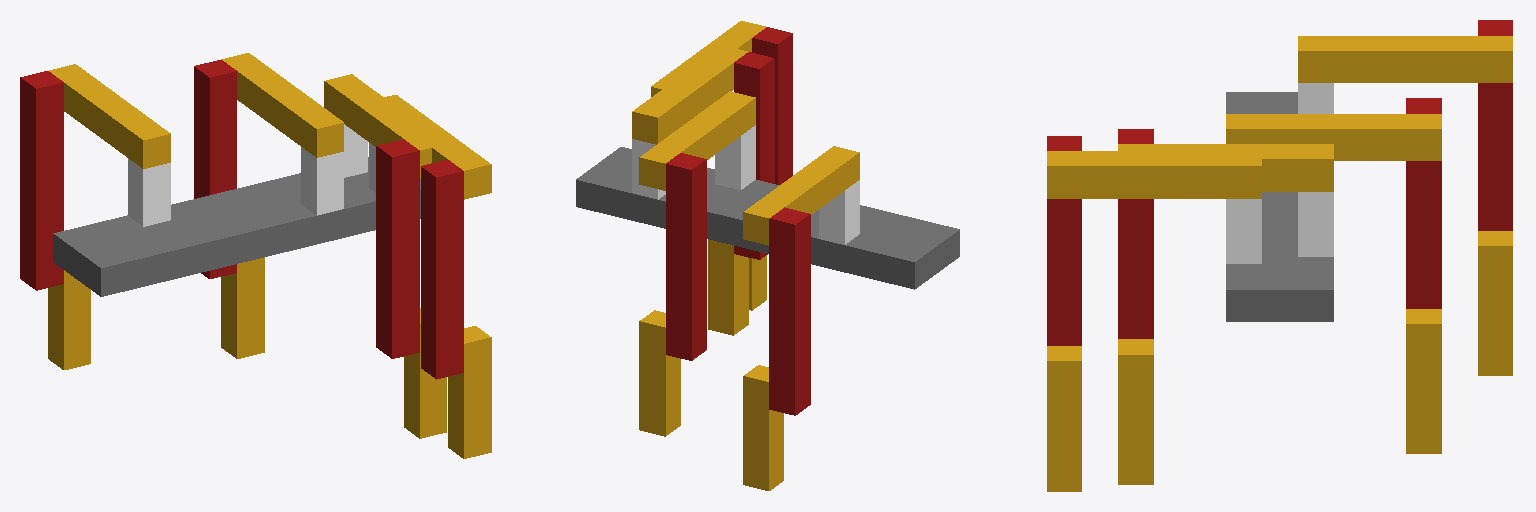
robot.urdf — v0:
<?xml version="1.0" encoding="utf-8"?>
<!-- =================================================================================== -->
<!-- |    This document was autogenerated by xacro from ../robots/v0variants/xacros/v0_4l_12.xacro | -->
<!-- |    EDITING THIS FILE BY HAND IS NOT RECOMMENDED                                 | -->
<!-- =================================================================================== -->
<robot name="v0">
  <material name="grey">
    <color rgba="0.5 0.5 0.5 1"/>
  </material>
  <material name="white">
    <color rgba="1 1 1 1"/>
  </material>
  <material name="yellow">
    <color rgba="0.91 0.7 0.14 1"/>
  </material>
  <material name="red">
    <color rgba="0.71 0.14 0.14 1"/>
  </material>
  <link name="body">
    <visual>
      <geometry>
        <box size="1.3 0.3 0.1"/>
      </geometry>
      <material name="grey"/>
      <origin rpy="0 0 0" xyz="0 0 0.7"/>
    </visual>
    <collision>
      <geometry>
        <box size="1.3 0.3 0.1"/>
      </geometry>
      <origin rpy="0 0 0" xyz="0 0 0.7"/>
    </collision>
    <inertial>
      <mass value="99.84"/>
      <inertia ixx="0.832" ixy="0.0" ixz="0.0" iyy="14.144" iyz="0.0" izz="14.8096"/>
    </inertial>
  </link>
  <link name="l1_segment_1">
    <visual>
      <geometry>
        <box size="0.1 0.1 0.2"/>
      </geometry>
      <material name="white"/>
      <origin rpy="0 0 0" xyz="0 0 0.1"/>
    </visual>
    <collision>
      <geometry>
        <box size="0.1 0.1 0.2"/>
      </geometry>
      <origin rpy="0 0 0" xyz="0 0 0.1"/>
    </collision>
    <inertial>
      <mass value="5.12"/>
      <inertia ixx="0.0213333333333" ixy="0.0" ixz="0.0" iyy="0.0213333333333" iyz="0.0" izz="0.00853333333333"/>
    </inertial>
  </link>
  <joint name="l1_base_to_joint_1" type="fixed">
    <parent link="body"/>
    <child link="l1_segment_1"/>
    <origin rpy="0 0 0" xyz="0.18285700972437235 -0.1 0.75"/>
  </joint>
  <link name="l1_segment_2_HIP">
    <visual>
      <geometry>
        <box size="0.1 0.6 0.1"/>
      </geometry>
      <material name="yellow"/>
      <origin rpy="0 0 0" xyz="0 0.25 0"/>
    </visual>
    <collision>
      <geometry>
        <box size="0.1 0.6 0.1"/>
      </geometry>
      <origin rpy="0 0 0" xyz="0 0.25 0"/>
    </collision>
    <inertial>
      <mass value="15.36"/>
      <inertia ixx="0.4736" ixy="0.0" ixz="0.0" iyy="0.0256" iyz="0.0" izz="0.4736"/>
    </inertial>
  </link>
  <joint name="l1_joint_1_to_2" type="revolute">
    <parent link="l1_segment_1"/>
    <child link="l1_segment_2_HIP"/>
    <origin rpy="0 0 0" xyz="0 0 0.25"/>
    <axis xyz="0.0 0.0 1.0"/>
    <limit effort="2048" lower="-1.2" upper="1.2" velocity="20"/>
  </joint>
  <link name="l1_segment_3_THIGH">
    <visual>
      <geometry>
        <box size="0.1 0.1 0.7"/>
      </geometry>
      <material name="red"/>
      <origin rpy="0 0 0" xyz="0 0 -0.3"/>
    </visual>
    <collision>
      <geometry>
        <box size="0.1 0.1 0.7"/>
      </geometry>
      <origin rpy="0 0 0" xyz="0 0 -0.3"/>
    </collision>
    <inertial>
      <mass value="17.92"/>
      <inertia ixx="0.746666666667" ixy="0.0" ixz="0.0" iyy="0.746666666667" iyz="0.0" izz="0.0298666666667"/>
    </inertial>
  </link>
  <joint name="l1_joint_2_to_3" type="revolute">
    <parent link="l1_segment_2_HIP"/>
    <child link="l1_segment_3_THIGH"/>
    <origin rpy="0 0 0" xyz="-0.1 0.5 0"/>
    <axis xyz="1.0 0.0 0.0"/>
    <limit effort="2048" lower="-0.2" upper="0.75" velocity="20"/>
  </joint>
  <link name="l1_segment_4_FOOT">
    <visual>
      <geometry>
        <box size="0.1 0.1 0.4"/>
      </geometry>
      <material name="yellow"/>
      <origin rpy="0 0 0" xyz="0 0 -0.2"/>
    </visual>
    <collision>
      <geometry>
        <box size="0.1 0.1 0.4"/>
      </geometry>
      <origin rpy="0 0 0" xyz="0 0 -0.2"/>
    </collision>
    <inertial>
      <mass value="10.24"/>
      <inertia ixx="0.145066666667" ixy="0.0" ixz="0.0" iyy="0.145066666667" iyz="0.0" izz="0.0170666666667"/>
    </inertial>
  </link>
  <joint name="l1_joint_3_to_4_FOOT" type="revolute">
    <parent link="l1_segment_3_THIGH"/>
    <child link="l1_segment_4_FOOT"/>
    <origin rpy="0 0 0" xyz="0.1 0 -0.55"/>
    <axis xyz="1.0 0.0 0.0"/>
    <limit effort="2048" lower="-0.2" upper="0.5" velocity="20"/>
  </joint>
  <link name="r2_segment_1">
    <visual>
      <geometry>
        <box size="0.1 0.1 0.2"/>
      </geometry>
      <material name="white"/>
      <origin rpy="0 0 0" xyz="0 0 0.1"/>
    </visual>
    <collision>
      <geometry>
        <box size="0.1 0.1 0.2"/>
      </geometry>
      <origin rpy="0 0 0" xyz="0 0 0.1"/>
    </collision>
    <inertial>
      <mass value="5.12"/>
      <inertia ixx="0.0213333333333" ixy="0.0" ixz="0.0" iyy="0.0213333333333" iyz="0.0" izz="0.00853333333333"/>
    </inertial>
  </link>
  <joint name="r2_base_to_joint_1" type="fixed">
    <parent link="body"/>
    <child link="r2_segment_1"/>
    <origin rpy="0 0 0" xyz="0.4283080100460962 -0.1 0.75"/>
  </joint>
  <link name="r2_segment_2_HIP">
    <visual>
      <geometry>
        <box size="0.1 0.6 0.1"/>
      </geometry>
      <material name="yellow"/>
      <origin rpy="0 0 0" xyz="0 -0.25 0"/>
    </visual>
    <collision>
      <geometry>
        <box size="0.1 0.6 0.1"/>
      </geometry>
      <origin rpy="0 0 0" xyz="0 -0.25 0"/>
    </collision>
    <inertial>
      <mass value="15.36"/>
      <inertia ixx="0.4736" ixy="0.0" ixz="0.0" iyy="0.0256" iyz="0.0" izz="0.4736"/>
    </inertial>
  </link>
  <joint name="r2_joint_1_to_2" type="revolute">
    <parent link="r2_segment_1"/>
    <child link="r2_segment_2_HIP"/>
    <origin rpy="0 0 0" xyz="0 0 0.25"/>
    <axis xyz="0.0 0.0 1.0"/>
    <limit effort="2048" lower="-1.2" upper="1.2" velocity="20"/>
  </joint>
  <link name="r2_segment_3_THIGH">
    <visual>
      <geometry>
        <box size="0.1 0.1 0.7"/>
      </geometry>
      <material name="red"/>
      <origin rpy="0 0 0" xyz="0 0 -0.3"/>
    </visual>
    <collision>
      <geometry>
        <box size="0.1 0.1 0.7"/>
      </geometry>
      <origin rpy="0 0 0" xyz="0 0 -0.3"/>
    </collision>
    <inertial>
      <mass value="17.92"/>
      <inertia ixx="0.746666666667" ixy="0.0" ixz="0.0" iyy="0.746666666667" iyz="0.0" izz="0.0298666666667"/>
    </inertial>
  </link>
  <joint name="r2_joint_2_to_3" type="revolute">
    <parent link="r2_segment_2_HIP"/>
    <child link="r2_segment_3_THIGH"/>
    <origin rpy="0 0 0" xyz="-0.1 -0.5 0"/>
    <axis xyz="1.0 0.0 0.0"/>
    <limit effort="2048" lower="-0.75" upper="0.2" velocity="20"/>
  </joint>
  <link name="r2_segment_4_FOOT">
    <visual>
      <geometry>
        <box size="0.1 0.1 0.4"/>
      </geometry>
      <material name="yellow"/>
      <origin rpy="0 0 0" xyz="0 0 -0.2"/>
    </visual>
    <collision>
      <geometry>
        <box size="0.1 0.1 0.4"/>
      </geometry>
      <origin rpy="0 0 0" xyz="0 0 -0.2"/>
    </collision>
    <inertial>
      <mass value="10.24"/>
      <inertia ixx="0.145066666667" ixy="0.0" ixz="0.0" iyy="0.145066666667" iyz="0.0" izz="0.0170666666667"/>
    </inertial>
  </link>
  <joint name="r2_joint_3_to_4_FOOT" type="revolute">
    <parent link="r2_segment_3_THIGH"/>
    <child link="r2_segment_4_FOOT"/>
    <origin rpy="0 0 0" xyz="0.1 0 -0.55"/>
    <axis xyz="1.0 0.0 0.0"/>
    <limit effort="2048" lower="-0.5" upper="0.2" velocity="20"/>
  </joint>
  <link name="l3_segment_1">
    <visual>
      <geometry>
        <box size="0.1 0.1 0.2"/>
      </geometry>
      <material name="white"/>
      <origin rpy="0 0 0" xyz="0 0 0.1"/>
    </visual>
    <collision>
      <geometry>
        <box size="0.1 0.1 0.2"/>
      </geometry>
      <origin rpy="0 0 0" xyz="0 0 0.1"/>
    </collision>
    <inertial>
      <mass value="5.12"/>
      <inertia ixx="0.0213333333333" ixy="0.0" ixz="0.0" iyy="0.0213333333333" iyz="0.0" izz="0.00853333333333"/>
    </inertial>
  </link>
  <joint name="l3_base_to_joint_1" type="fixed">
    <parent link="body"/>
    <child link="l3_segment_1"/>
    <origin rpy="0 0 0" xyz="-0.33064813854895575 0.1 0.75"/>
  </joint>
  <link name="l3_segment_2_HIP">
    <visual>
      <geometry>
        <box size="0.1 0.6 0.1"/>
      </geometry>
      <material name="yellow"/>
      <origin rpy="0 0 0" xyz="0 0.25 0"/>
    </visual>
    <collision>
      <geometry>
        <box size="0.1 0.6 0.1"/>
      </geometry>
      <origin rpy="0 0 0" xyz="0 0.25 0"/>
    </collision>
    <inertial>
      <mass value="15.36"/>
      <inertia ixx="0.4736" ixy="0.0" ixz="0.0" iyy="0.0256" iyz="0.0" izz="0.4736"/>
    </inertial>
  </link>
  <joint name="l3_joint_1_to_2" type="revolute">
    <parent link="l3_segment_1"/>
    <child link="l3_segment_2_HIP"/>
    <origin rpy="0 0 0" xyz="0 0 0.25"/>
    <axis xyz="0.0 0.0 1.0"/>
    <limit effort="2048" lower="-1.2" upper="1.2" velocity="20"/>
  </joint>
  <link name="l3_segment_3_THIGH">
    <visual>
      <geometry>
        <box size="0.1 0.1 0.7"/>
      </geometry>
      <material name="red"/>
      <origin rpy="0 0 0" xyz="0 0 -0.3"/>
    </visual>
    <collision>
      <geometry>
        <box size="0.1 0.1 0.7"/>
      </geometry>
      <origin rpy="0 0 0" xyz="0 0 -0.3"/>
    </collision>
    <inertial>
      <mass value="17.92"/>
      <inertia ixx="0.746666666667" ixy="0.0" ixz="0.0" iyy="0.746666666667" iyz="0.0" izz="0.0298666666667"/>
    </inertial>
  </link>
  <joint name="l3_joint_2_to_3" type="revolute">
    <parent link="l3_segment_2_HIP"/>
    <child link="l3_segment_3_THIGH"/>
    <origin rpy="0 0 0" xyz="-0.1 0.5 0"/>
    <axis xyz="1.0 0.0 0.0"/>
    <limit effort="2048" lower="-0.2" upper="0.75" velocity="20"/>
  </joint>
  <link name="l3_segment_4_FOOT">
    <visual>
      <geometry>
        <box size="0.1 0.1 0.4"/>
      </geometry>
      <material name="yellow"/>
      <origin rpy="0 0 0" xyz="0 0 -0.2"/>
    </visual>
    <collision>
      <geometry>
        <box size="0.1 0.1 0.4"/>
      </geometry>
      <origin rpy="0 0 0" xyz="0 0 -0.2"/>
    </collision>
    <inertial>
      <mass value="10.24"/>
      <inertia ixx="0.145066666667" ixy="0.0" ixz="0.0" iyy="0.145066666667" iyz="0.0" izz="0.0170666666667"/>
    </inertial>
  </link>
  <joint name="l3_joint_3_to_4_FOOT" type="revolute">
    <parent link="l3_segment_3_THIGH"/>
    <child link="l3_segment_4_FOOT"/>
    <origin rpy="0 0 0" xyz="0.1 0 -0.55"/>
    <axis xyz="1.0 0.0 0.0"/>
    <limit effort="2048" lower="-0.2" upper="0.5" velocity="20"/>
  </joint>
  <link name="r4_segment_1">
    <visual>
      <geometry>
        <box size="0.1 0.1 0.2"/>
      </geometry>
      <material name="white"/>
      <origin rpy="0 0 0" xyz="0 0 0.1"/>
    </visual>
    <collision>
      <geometry>
        <box size="0.1 0.1 0.2"/>
      </geometry>
      <origin rpy="0 0 0" xyz="0 0 0.1"/>
    </collision>
    <inertial>
      <mass value="5.12"/>
      <inertia ixx="0.0213333333333" ixy="0.0" ixz="0.0" iyy="0.0213333333333" iyz="0.0" izz="0.00853333333333"/>
    </inertial>
  </link>
  <joint name="r4_base_to_joint_1" type="fixed">
    <parent link="body"/>
    <child link="r4_segment_1"/>
    <origin rpy="0 0 0" xyz="0.3838313226723461 0.1 0.75"/>
  </joint>
  <link name="r4_segment_2_HIP">
    <visual>
      <geometry>
        <box size="0.1 0.6 0.1"/>
      </geometry>
      <material name="yellow"/>
      <origin rpy="0 0 0" xyz="0 -0.25 0"/>
    </visual>
    <collision>
      <geometry>
        <box size="0.1 0.6 0.1"/>
      </geometry>
      <origin rpy="0 0 0" xyz="0 -0.25 0"/>
    </collision>
    <inertial>
      <mass value="15.36"/>
      <inertia ixx="0.4736" ixy="0.0" ixz="0.0" iyy="0.0256" iyz="0.0" izz="0.4736"/>
    </inertial>
  </link>
  <joint name="r4_joint_1_to_2" type="revolute">
    <parent link="r4_segment_1"/>
    <child link="r4_segment_2_HIP"/>
    <origin rpy="0 0 0" xyz="0 0 0.25"/>
    <axis xyz="0.0 0.0 1.0"/>
    <limit effort="2048" lower="-1.2" upper="1.2" velocity="20"/>
  </joint>
  <link name="r4_segment_3_THIGH">
    <visual>
      <geometry>
        <box size="0.1 0.1 0.7"/>
      </geometry>
      <material name="red"/>
      <origin rpy="0 0 0" xyz="0 0 -0.3"/>
    </visual>
    <collision>
      <geometry>
        <box size="0.1 0.1 0.7"/>
      </geometry>
      <origin rpy="0 0 0" xyz="0 0 -0.3"/>
    </collision>
    <inertial>
      <mass value="17.92"/>
      <inertia ixx="0.746666666667" ixy="0.0" ixz="0.0" iyy="0.746666666667" iyz="0.0" izz="0.0298666666667"/>
    </inertial>
  </link>
  <joint name="r4_joint_2_to_3" type="revolute">
    <parent link="r4_segment_2_HIP"/>
    <child link="r4_segment_3_THIGH"/>
    <origin rpy="0 0 0" xyz="-0.1 -0.5 0"/>
    <axis xyz="1.0 0.0 0.0"/>
    <limit effort="2048" lower="-0.75" upper="0.2" velocity="20"/>
  </joint>
  <link name="r4_segment_4_FOOT">
    <visual>
      <geometry>
        <box size="0.1 0.1 0.4"/>
      </geometry>
      <material name="yellow"/>
      <origin rpy="0 0 0" xyz="0 0 -0.2"/>
    </visual>
    <collision>
      <geometry>
        <box size="0.1 0.1 0.4"/>
      </geometry>
      <origin rpy="0 0 0" xyz="0 0 -0.2"/>
    </collision>
    <inertial>
      <mass value="10.24"/>
      <inertia ixx="0.145066666667" ixy="0.0" ixz="0.0" iyy="0.145066666667" iyz="0.0" izz="0.0170666666667"/>
    </inertial>
  </link>
  <joint name="r4_joint_3_to_4_FOOT" type="revolute">
    <parent link="r4_segment_3_THIGH"/>
    <child link="r4_segment_4_FOOT"/>
    <origin rpy="0 0 0" xyz="0.1 0 -0.55"/>
    <axis xyz="1.0 0.0 0.0"/>
    <limit effort="2048" lower="-0.5" upper="0.2" velocity="20"/>
  </joint>
</robot>

--- Facts derived from the render (not from the file) ---
3 views of the same robot in one strip: view 1: azimuth 30°, elevation 25°; view 2: azimuth 150°, elevation 25°; view 3: azimuth 270°, elevation 25° (orthographic).
Robot: v0 — 17 links, 16 joints (12 revolute, 4 fixed); root link body; default pose: every joint at zero.
Links seen in each view (by area): view 1: body, r4_segment_3_THIGH, r2_segment_3_THIGH, l3_segment_3_THIGH, l1_segment_3_THIGH, l1_segment_2_HIP, l3_segment_2_HIP, r2_segment_4_FOOT, r4_segment_2_HIP, l1_segment_4_FOOT, l3_segment_4_FOOT, r4_segment_4_FOOT (+4 smaller); view 2: body, l3_segment_3_THIGH, l1_segment_3_THIGH, r4_segment_2_HIP, l1_segment_2_HIP, l3_segment_2_HIP, l1_segment_4_FOOT, l3_segment_4_FOOT, r4_segment_3_THIGH, r4_segment_4_FOOT, r2_segment_3_THIGH, l3_segment_1 (+4 smaller); view 3: body, r2_segment_2_HIP, l3_segment_2_HIP, l1_segment_2_HIP, l1_segment_3_THIGH, l3_segment_3_THIGH, r2_segment_3_THIGH, r4_segment_3_THIGH, r4_segment_4_FOOT, l1_segment_4_FOOT, r2_segment_4_FOOT, l3_segment_4_FOOT (+4 smaller).
Boxes of the visible links, x1=… form: body: x1=53, y1=157, x2=420, y2=296; r4_segment_3_THIGH: x1=376, y1=139, x2=419, y2=358; r2_segment_3_THIGH: x1=421, y1=159, x2=463, y2=379; l3_segment_3_THIGH: x1=20, y1=71, x2=63, y2=290; l1_segment_3_THIGH: x1=194, y1=60, x2=236, y2=278; l1_segment_2_HIP: x1=221, y1=53, x2=343, y2=157; l3_segment_2_HIP: x1=49, y1=64, x2=170, y2=168; r2_segment_4_FOOT: x1=448, y1=326, x2=491, y2=458; r4_segment_2_HIP: x1=324, y1=74, x2=446, y2=178; l1_segment_4_FOOT: x1=221, y1=257, x2=264, y2=358; l3_segment_4_FOOT: x1=48, y1=270, x2=90, y2=369; r4_segment_4_FOOT: x1=404, y1=308, x2=446, y2=438; body: x1=576, y1=147, x2=959, y2=289; l3_segment_3_THIGH: x1=769, y1=207, x2=810, y2=415; l1_segment_3_THIGH: x1=666, y1=153, x2=706, y2=360; r4_segment_2_HIP: x1=632, y1=45, x2=747, y2=144; l1_segment_2_HIP: x1=639, y1=91, x2=755, y2=190; l3_segment_2_HIP: x1=743, y1=146, x2=859, y2=245; l1_segment_4_FOOT: x1=639, y1=310, x2=680, y2=436; l3_segment_4_FOOT: x1=743, y1=365, x2=783, y2=490; r4_segment_3_THIGH: x1=734, y1=52, x2=774, y2=259; r4_segment_4_FOOT: x1=708, y1=239, x2=748, y2=335; r2_segment_3_THIGH: x1=752, y1=27, x2=792, y2=184; l3_segment_1: x1=819, y1=180, x2=859, y2=244; body: x1=1226, y1=92, x2=1333, y2=321; r2_segment_2_HIP: x1=1047, y1=151, x2=1261, y2=198; l3_segment_2_HIP: x1=1298, y1=36, x2=1512, y2=82; l1_segment_2_HIP: x1=1226, y1=114, x2=1441, y2=160; l1_segment_3_THIGH: x1=1406, y1=98, x2=1441, y2=308; l3_segment_3_THIGH: x1=1478, y1=20, x2=1512, y2=230; r2_segment_3_THIGH: x1=1047, y1=136, x2=1081, y2=345; r4_segment_3_THIGH: x1=1118, y1=129, x2=1153, y2=338; r4_segment_4_FOOT: x1=1118, y1=339, x2=1153, y2=484; l1_segment_4_FOOT: x1=1406, y1=309, x2=1441, y2=453; r2_segment_4_FOOT: x1=1047, y1=346, x2=1081, y2=491; l3_segment_4_FOOT: x1=1478, y1=231, x2=1512, y2=375.
Bounding box of the posed robot: 1.3 × 1.3 × 1 m (x, y, z).
Geometry: primitives only (box / cylinder / sphere), no mesh files.